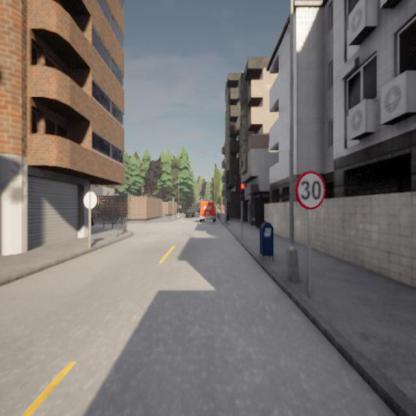traffic_light_red: (240, 182, 245, 200)
traffic_sign_30: (296, 171, 324, 209)
vehicle: (199, 199, 217, 222)
